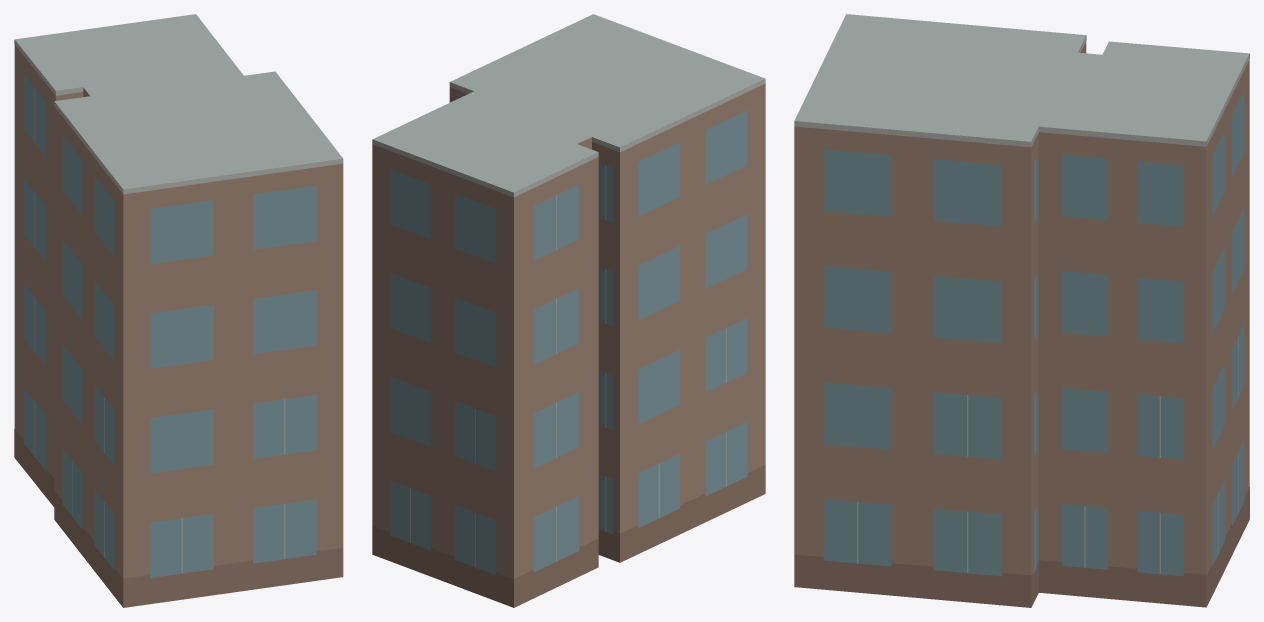
The model's file is survey-upis-32896217.glb.
3 renders of one model, left to right at view 1: azimuth 30°, elevation 25°; view 2: azimuth 150°, elevation 25°; view 3: azimuth 270°, elevation 25°, orthographic. The views are drawn at different scales.
Parts seen in each view (by area): view 1: survey-upis-32896217.tmp; view 2: survey-upis-32896217.tmp; view 3: survey-upis-32896217.tmp.
Part boxes in pixels (box(x1,y1,x2,y2)): survey-upis-32896217.tmp: box(14, 14, 343, 607); survey-upis-32896217.tmp: box(372, 14, 765, 607); survey-upis-32896217.tmp: box(794, 14, 1249, 607).
Size of the model in its own units: 12.25 by 20.8 by 18.43.
